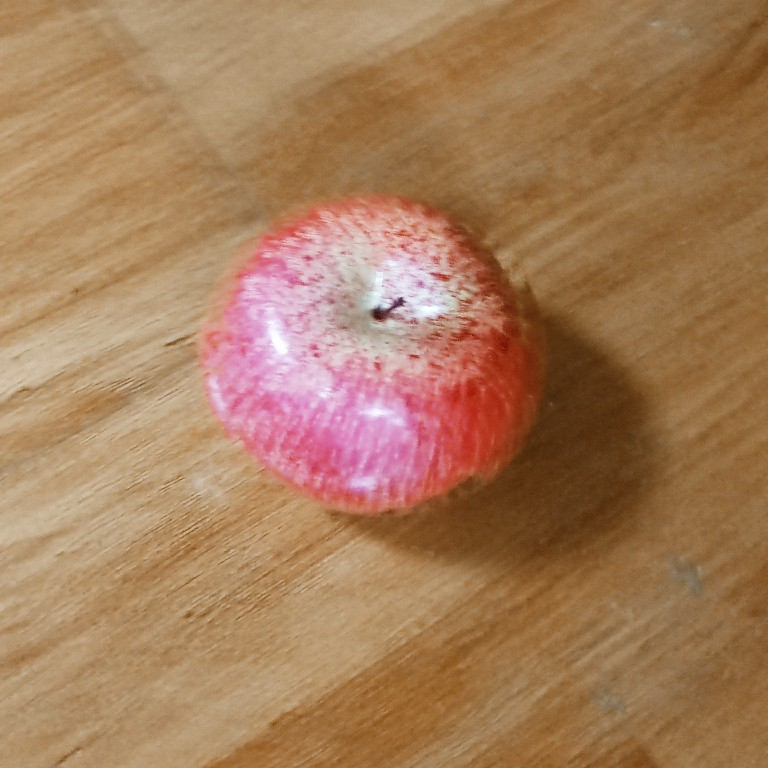fruit_apple: (197, 189, 545, 524)
